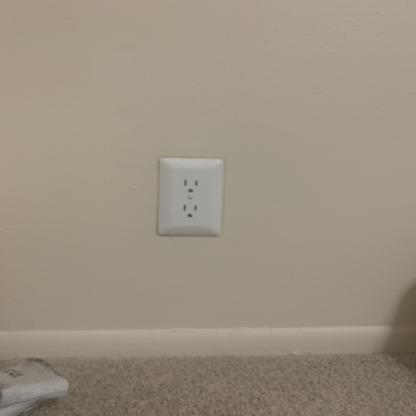OUTLET: (158, 157, 221, 235)
